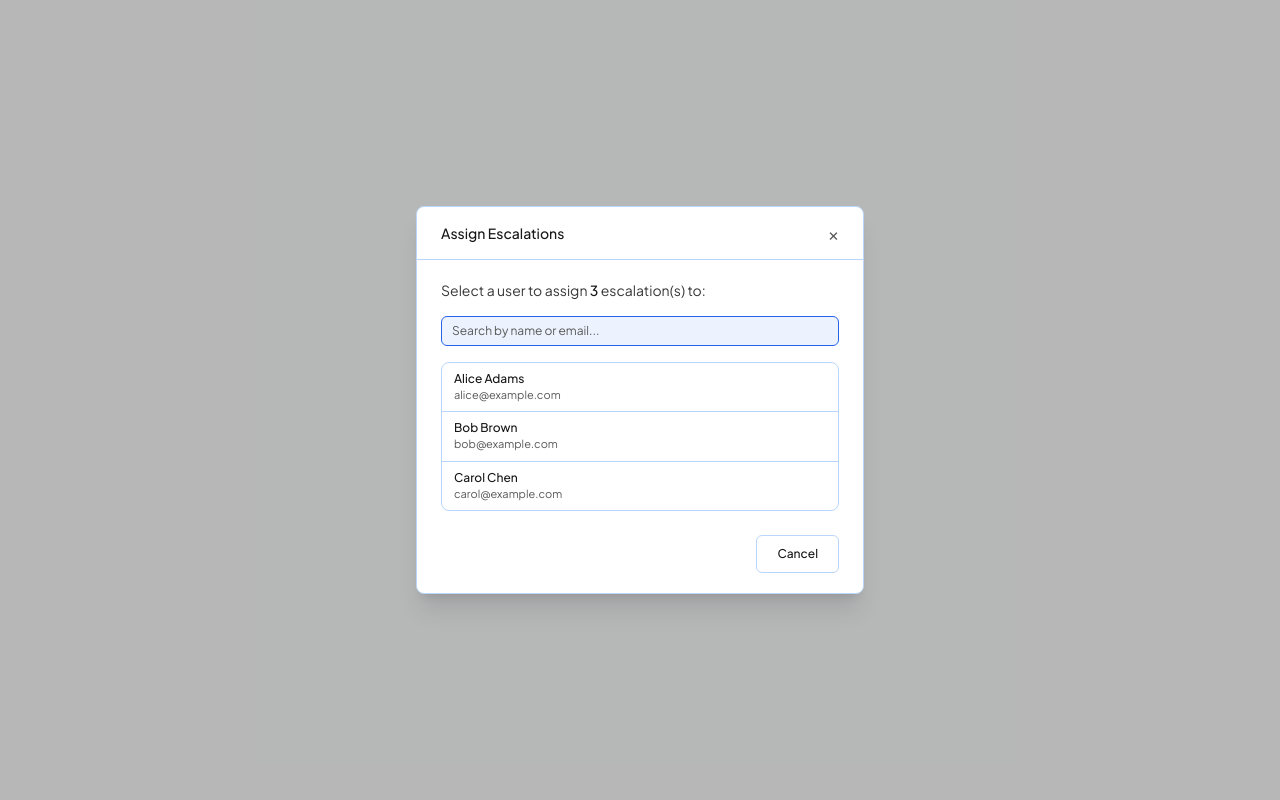
BulkAssignModal › returns to user step on Back
The image size is (1280, 800).
Click the text "Bob Brown". click: x=486, y=428
box: [454,420,517,435]
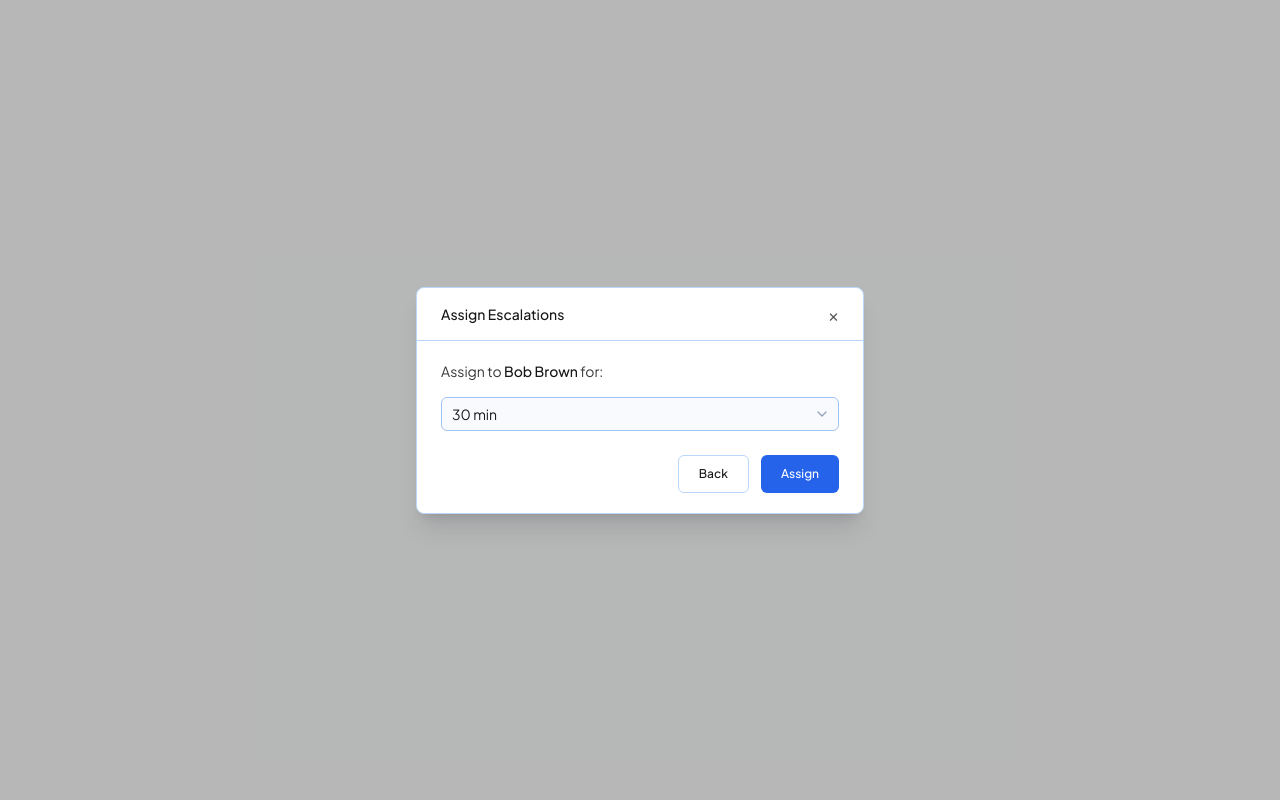
Click the button "Back". click: x=713, y=474
box: [678,454,749,492]
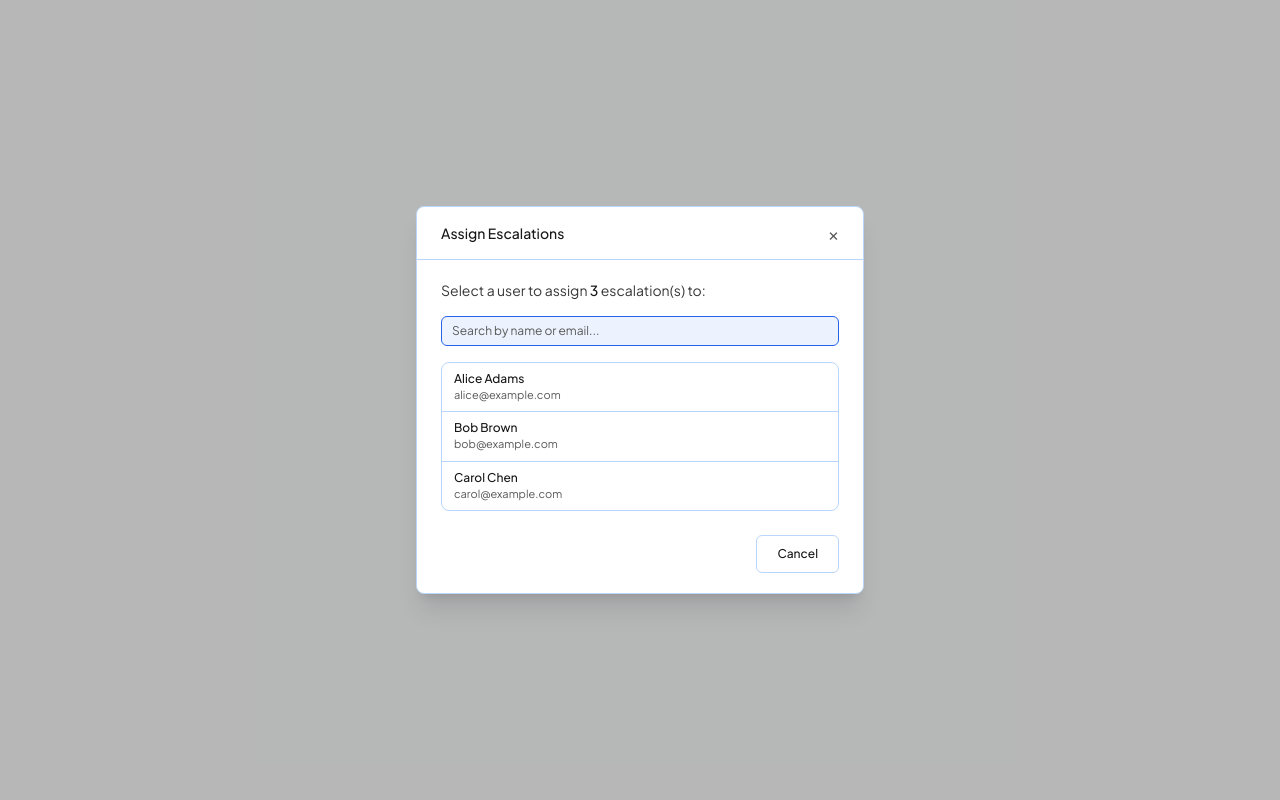
Expected: the field with placeholder "Search by name or email..." is shown, [441,316,839,346]
Expected: the text "Alice Adams" is shown, [454,371,524,386]
